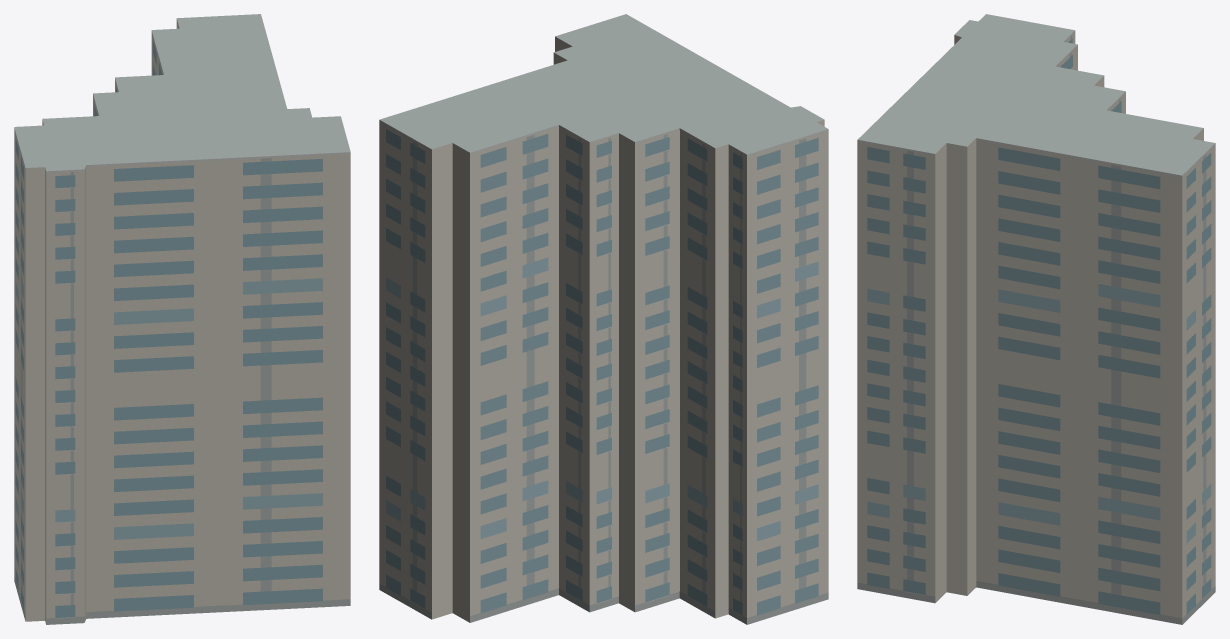
The model's file is residential-410faf71-f43a-4274-9e80-e10b53454422.glb.
The picture shows the model from 3 angles, left to right: view 1: azimuth 30°, elevation 25°; view 2: azimuth 150°, elevation 25°; view 3: azimuth 270°, elevation 25°; orthographic projection. The views are drawn at different scales.
Visible parts, largest first — view 1: residential-410faf71-f43a-4274-9e80-e10b53454422.tmp; view 2: residential-410faf71-f43a-4274-9e80-e10b53454422.tmp; view 3: residential-410faf71-f43a-4274-9e80-e10b53454422.tmp.
Boxes of the visible parts, x1=… form: residential-410faf71-f43a-4274-9e80-e10b53454422.tmp: x1=14, y1=14, x2=350, y2=624; residential-410faf71-f43a-4274-9e80-e10b53454422.tmp: x1=379, y1=14, x2=828, y2=624; residential-410faf71-f43a-4274-9e80-e10b53454422.tmp: x1=857, y1=14, x2=1215, y2=624.
Bounding box in the file's own units: 41.67 × 54 × 39.01.
